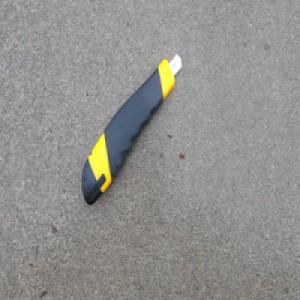Cutter: (80, 51, 182, 207)
